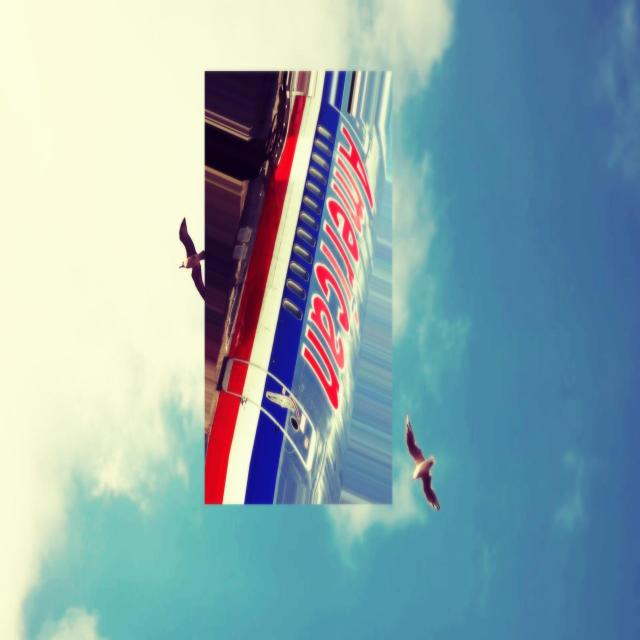airplane: (204, 69, 393, 505)
